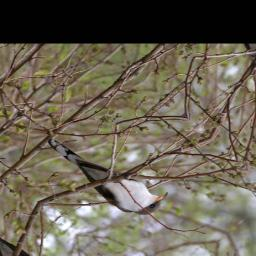Cuckoo: (42, 115, 174, 229)
